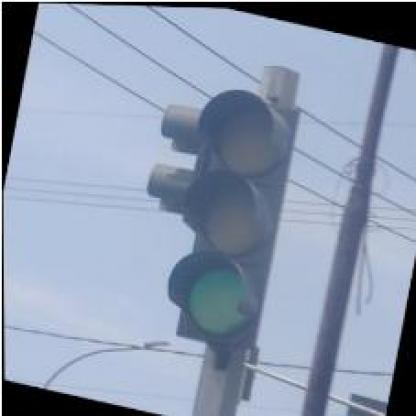green: (156, 78, 302, 351)
